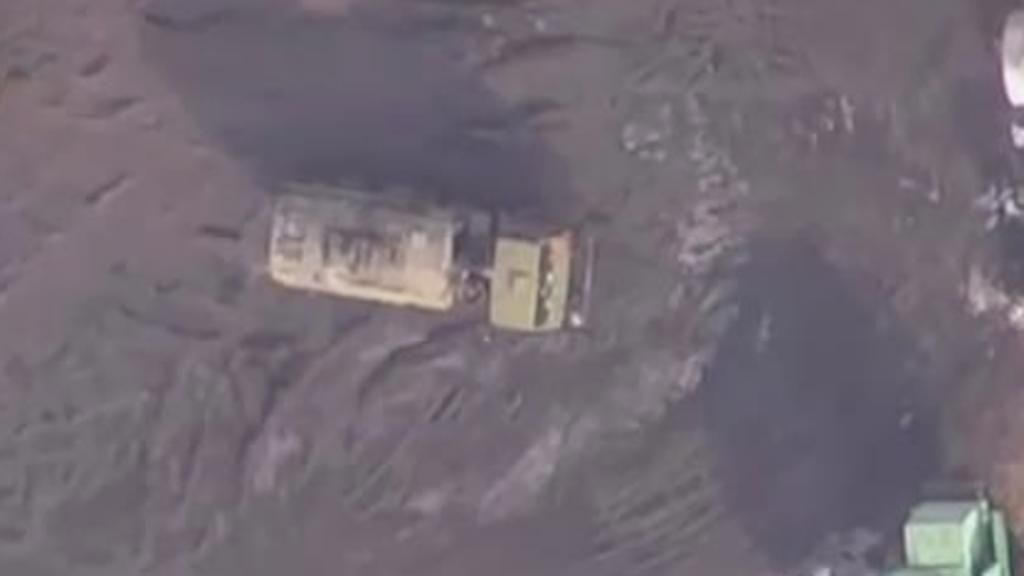TRUCK: (262, 172, 600, 344)
